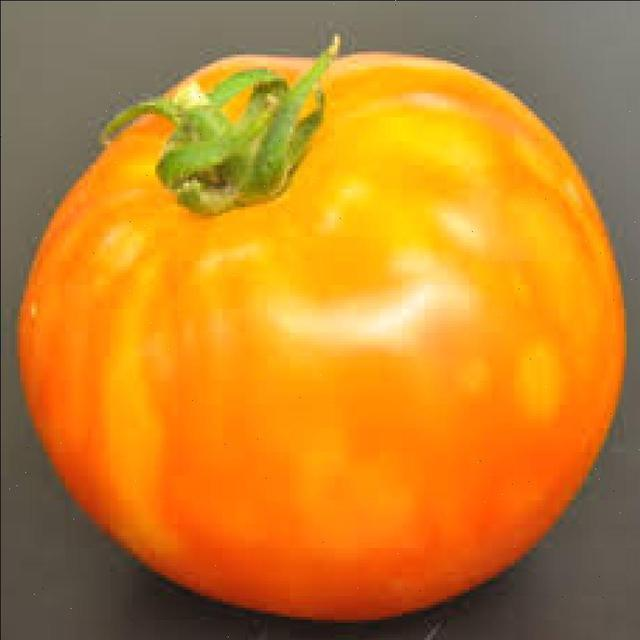Spotted wilt Virus Fruit: (40, 194, 225, 607)
